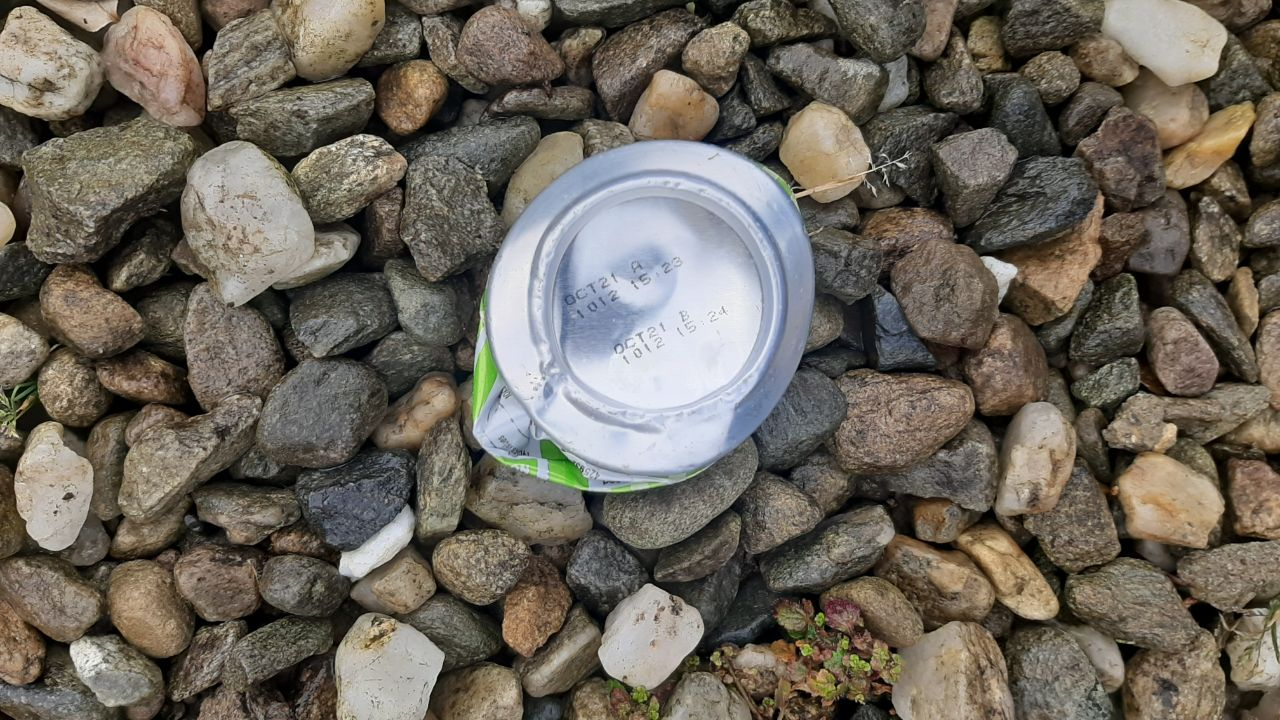Can: (471, 138, 823, 495)
